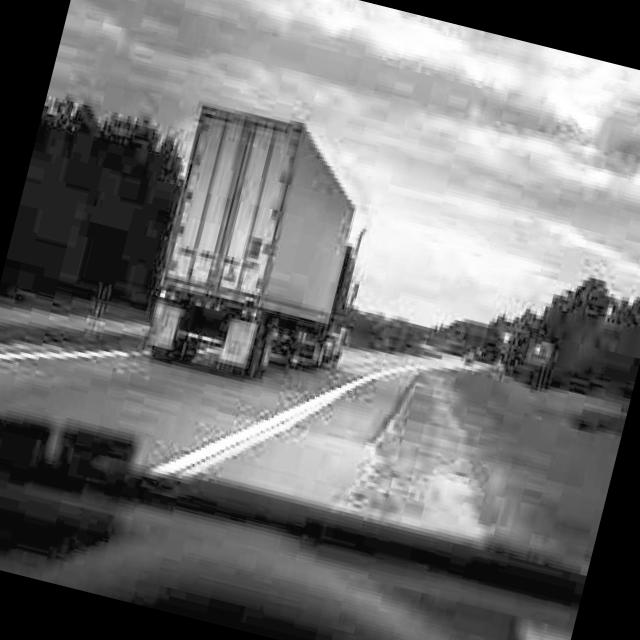Truck: (136, 94, 394, 400)
